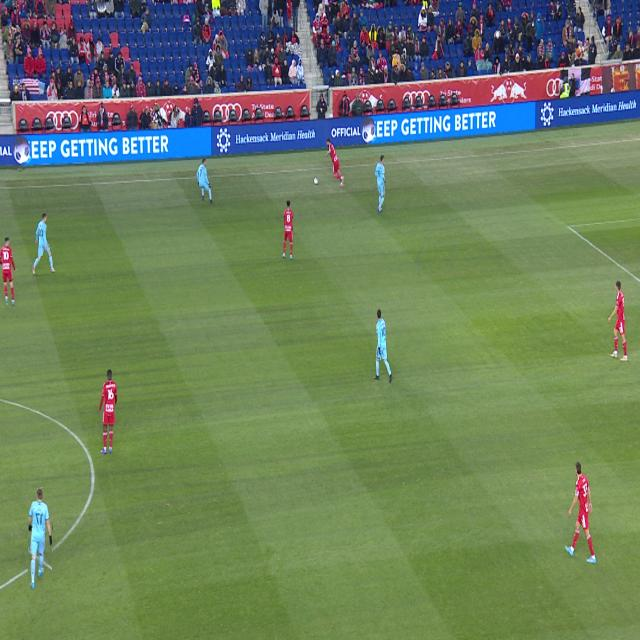football: (313, 176, 318, 184)
player: (564, 462, 596, 564), (29, 488, 52, 590), (608, 281, 628, 361), (99, 369, 117, 454), (32, 213, 55, 274), (374, 309, 392, 383), (0, 237, 17, 306), (325, 138, 344, 187), (196, 158, 212, 202), (375, 155, 386, 215), (282, 199, 293, 259)
